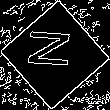N_E: (28, 33, 82, 77)
